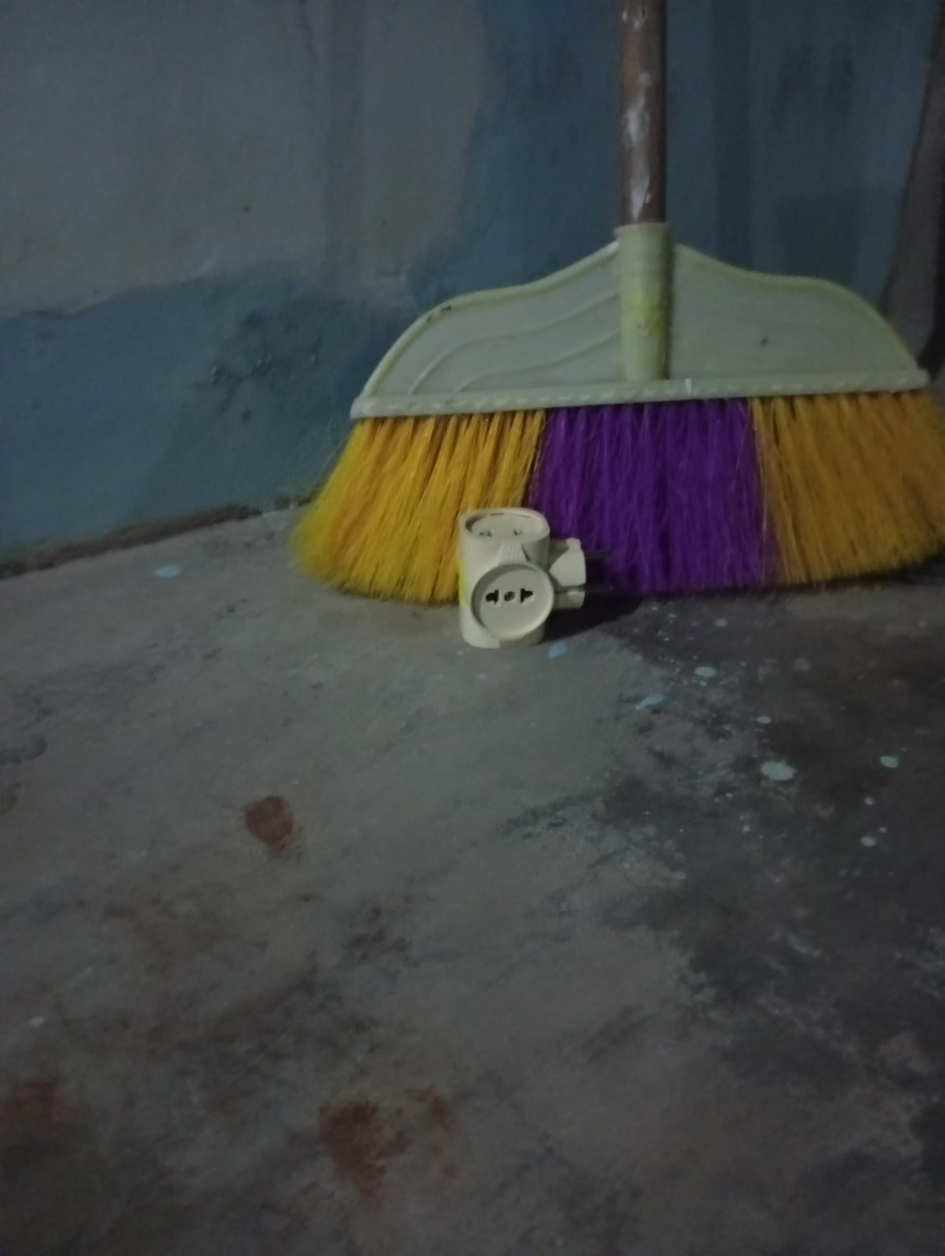Colokan: (426, 486, 627, 667)
